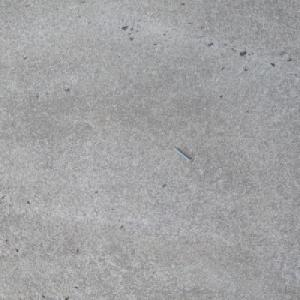Screw: (172, 146, 193, 162)
